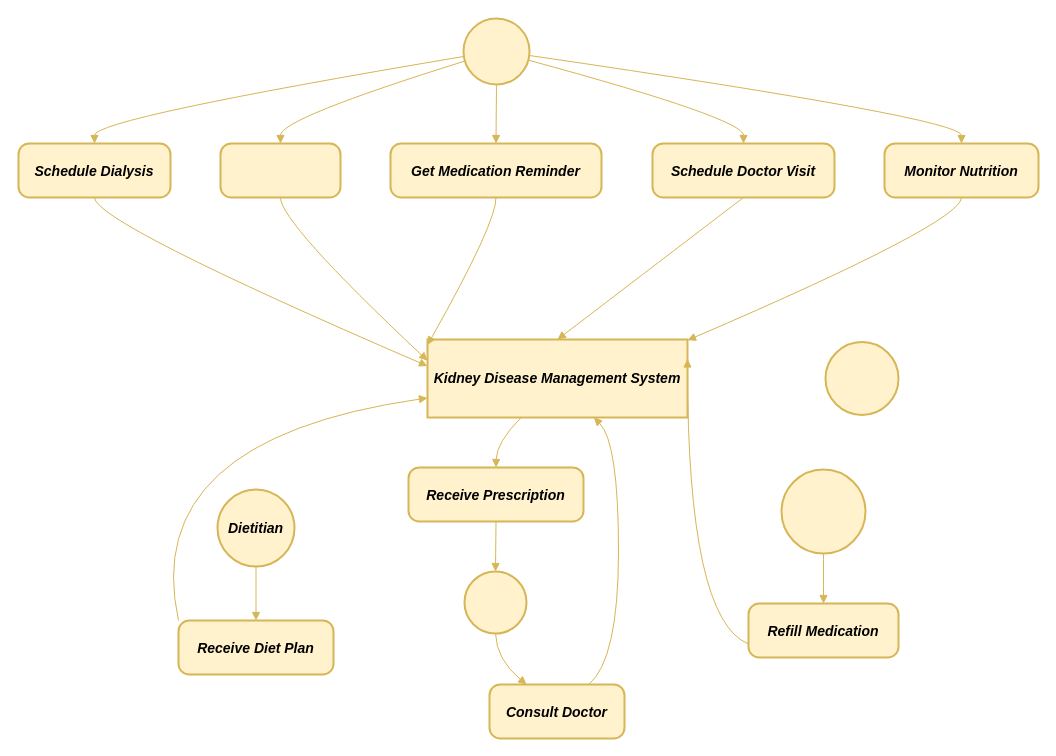
The diagram is 1056 pixels wide and 756 high, and some of its shapes have lost their labels. The shapes that lost their labels are listed below. From the top down, each one's centre as x and y in pixels, then its label:
At [496,51]: "Patient".
At [280,170]: "Track Health".
At [861,378]: "Hospital".
At [823,511]: "Pharmacy".
At [495,602]: "Doctor".
